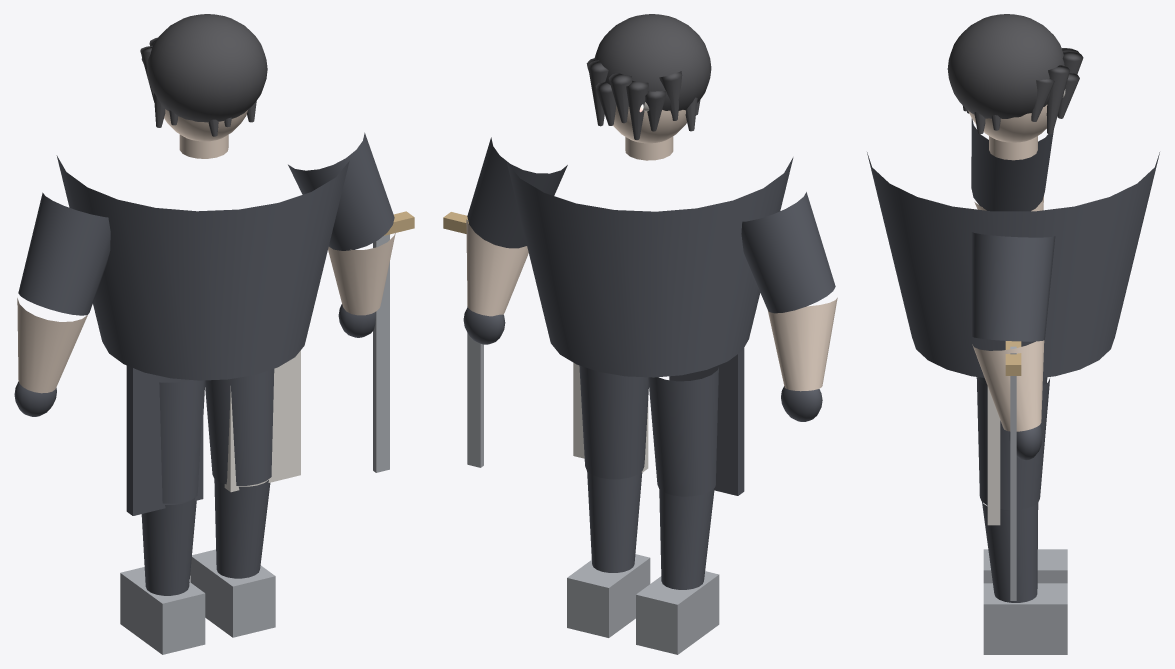
Rendered from brigitte-procedural-v1.glb.
The picture shows the model from 3 angles, left to right: view 1: azimuth 30°, elevation 25°; view 2: azimuth 150°, elevation 25°; view 3: azimuth 270°, elevation 25°; orthographic projection. The views are drawn at different scales.
Parts seen in each view (by area): view 1: Outfit_Torso, Hair_Cap, Body_UpperArm_L, Body_Thigh_R, Outfit_CoatTail_L, Body_UpperArm_R, Outfit_Boot_L, Body_Thigh_L, Outfit_Boot_R, Body_Shin_R, Body_Shin_L, Outfit_CoatTail_R (+7 smaller); view 2: Outfit_Torso, Body_Thigh_L, Body_UpperArm_L, Hair_Cap, Body_Thigh_R, Outfit_Boot_L, Outfit_Boot_R, Body_UpperArm_R, Body_Shin_R, Body_Shin_L, Body_Forearm_L, Outfit_CoatTail_L (+13 smaller); view 3: Outfit_Torso, Hair_Cap, Body_UpperArm_R, Outfit_Boot_R, Body_UpperArm_L, Body_Shin_R, Body_Forearm_R, Body_Thigh_R, Outfit_CoatTail_R, Weapon_SwordBlade, Body_Head, Outfit_Boot_L (+6 smaller).
Part boxes in pixels (left/top/right/bottom): Outfit_Torso: left=56, top=155, right=349, bottom=380; Hair_Cap: left=147, top=14, right=267, bottom=122; Body_UpperArm_L: left=18, top=192, right=110, bottom=315; Body_Thigh_R: left=205, top=369, right=274, bottom=485; Outfit_CoatTail_L: left=126, top=365, right=203, bottom=515; Body_UpperArm_R: left=288, top=132, right=394, bottom=250; Outfit_Boot_L: left=120, top=567, right=205, bottom=654; Body_Thigh_L: left=159, top=380, right=205, bottom=503; Outfit_Boot_R: left=190, top=549, right=275, bottom=637; Body_Shin_R: left=214, top=479, right=270, bottom=578; Body_Shin_L: left=141, top=497, right=196, bottom=595; Outfit_CoatTail_R: left=224, top=350, right=300, bottom=492; Outfit_Torso: left=507, top=157, right=793, bottom=377; Body_Thigh_L: left=648, top=367, right=718, bottom=496; Body_UpperArm_L: left=741, top=192, right=835, bottom=313; Hair_Cap: left=594, top=14, right=711, bottom=110; Body_Thigh_R: left=579, top=365, right=648, bottom=479; Outfit_Boot_L: left=636, top=571, right=719, bottom=654; Outfit_Boot_R: left=567, top=554, right=650, bottom=637; Body_UpperArm_R: left=467, top=137, right=567, bottom=248; Body_Shin_R: left=587, top=471, right=642, bottom=572; Body_Shin_L: left=659, top=488, right=714, bottom=589; Body_Forearm_L: left=767, top=297, right=837, bottom=391; Outfit_CoatTail_L: left=669, top=348, right=744, bottom=495; Outfit_Torso: left=867, top=152, right=1159, bottom=377; Hair_Cap: left=947, top=14, right=1064, bottom=118; Body_UpperArm_R: left=971, top=232, right=1055, bottom=341; Outfit_Boot_R: left=983, top=583, right=1067, bottom=654; Body_UpperArm_L: left=971, top=118, right=1053, bottom=211; Body_Shin_R: left=982, top=502, right=1038, bottom=602; Body_Forearm_R: left=972, top=340, right=1044, bottom=431; Body_Thigh_R: left=976, top=377, right=1049, bottom=509; Outfit_CoatTail_R: left=987, top=386, right=1000, bottom=525; Weapon_SwordBlade: left=1010, top=346, right=1016, bottom=600; Body_Head: left=968, top=104, right=1047, bottom=142; Outfit_Boot_L: left=983, top=549, right=1067, bottom=583.
Bounding box in the file's own units: 1.26 × 1.89 × 0.8306.
